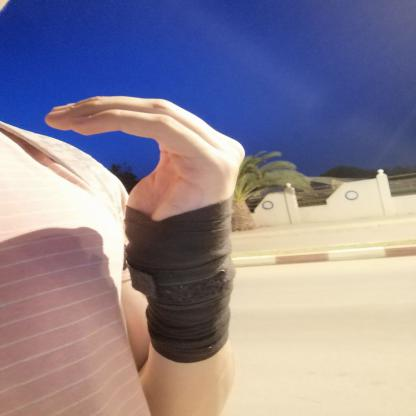HAA: (26, 84, 263, 256)
